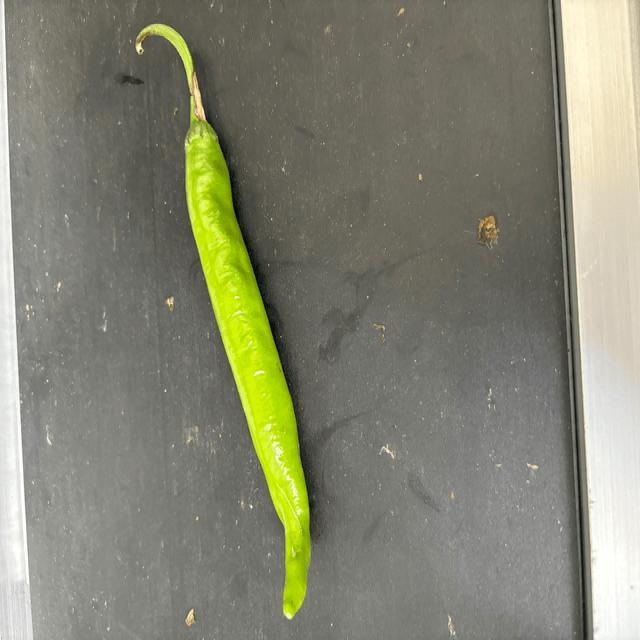chili: (180, 120, 313, 622)
